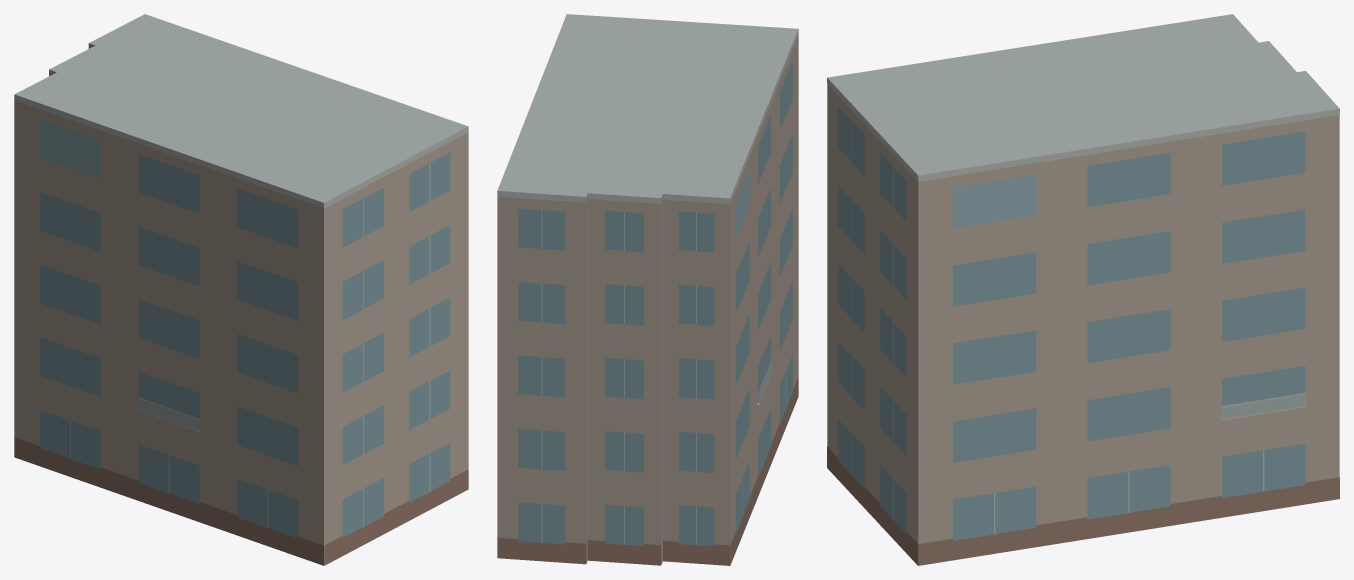
The model's file is survey-upis-32989296.glb.
The picture shows the model from 3 angles, left to right: view 1: azimuth 30°, elevation 25°; view 2: azimuth 150°, elevation 25°; view 3: azimuth 270°, elevation 25°; orthographic projection. The views are drawn at different scales.
Parts seen in each view (by area): view 1: survey-upis-32989296.tmp; view 2: survey-upis-32989296.tmp; view 3: survey-upis-32989296.tmp.
Boxes of the visible parts, x1,y1,x2,y2 form: survey-upis-32989296.tmp: (14,14,468,565); survey-upis-32989296.tmp: (497,14,798,565); survey-upis-32989296.tmp: (827,14,1339,565).
Bounding box in the file's own units: 13.77 × 15.5 × 18.46.
